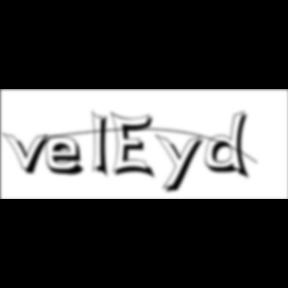E: (110, 110, 160, 182)
d: (205, 110, 255, 182)
e: (46, 135, 92, 178)
l: (92, 108, 115, 182)
v: (2, 131, 56, 177)
y: (155, 132, 209, 196)
